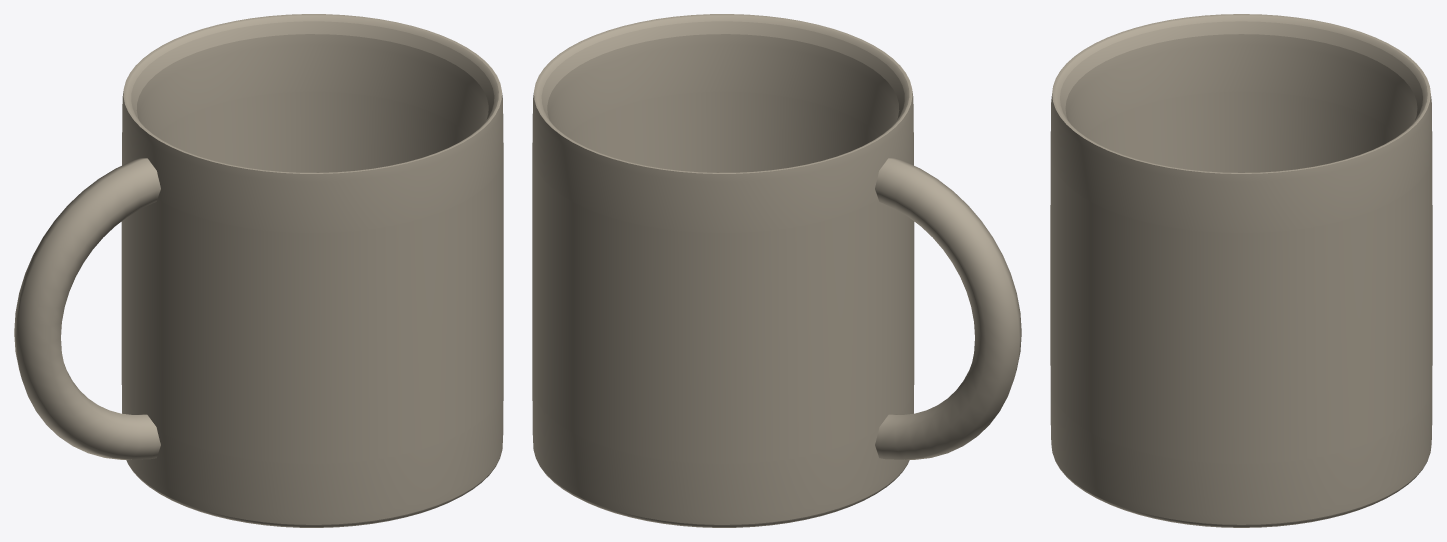
The model's file is Mug.fbx.
The picture shows the model from 3 angles, left to right: view 1: azimuth 30°, elevation 25°; view 2: azimuth 150°, elevation 25°; view 3: azimuth 270°, elevation 25°; orthographic projection.
Parts seen in each view (by area): view 1: Mug, Handle; view 2: Mug, Handle; view 3: Mug.
Part boxes in pixels (box(x1,y1,x2,y2)): Mug: box(121, 14, 503, 527); Handle: box(14, 158, 160, 459); Mug: box(532, 14, 914, 527); Handle: box(875, 158, 1021, 459); Mug: box(1050, 14, 1432, 527).
Bounding box in the file's own units: 277 × 204 × 199.
